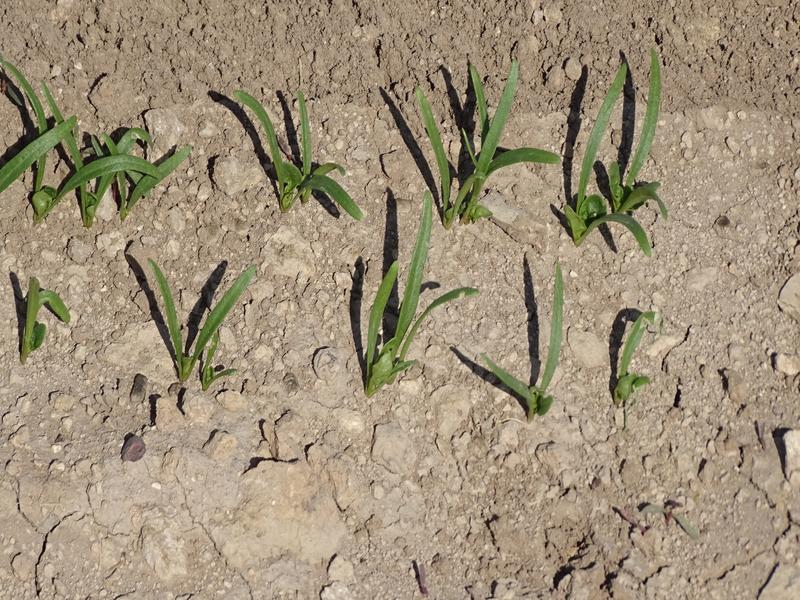Espinaca: (1, 61, 193, 228), (555, 59, 680, 251), (411, 61, 548, 218), (357, 227, 474, 392), (236, 80, 368, 225), (485, 270, 580, 412), (148, 258, 259, 375), (611, 306, 666, 403), (19, 276, 69, 358)
